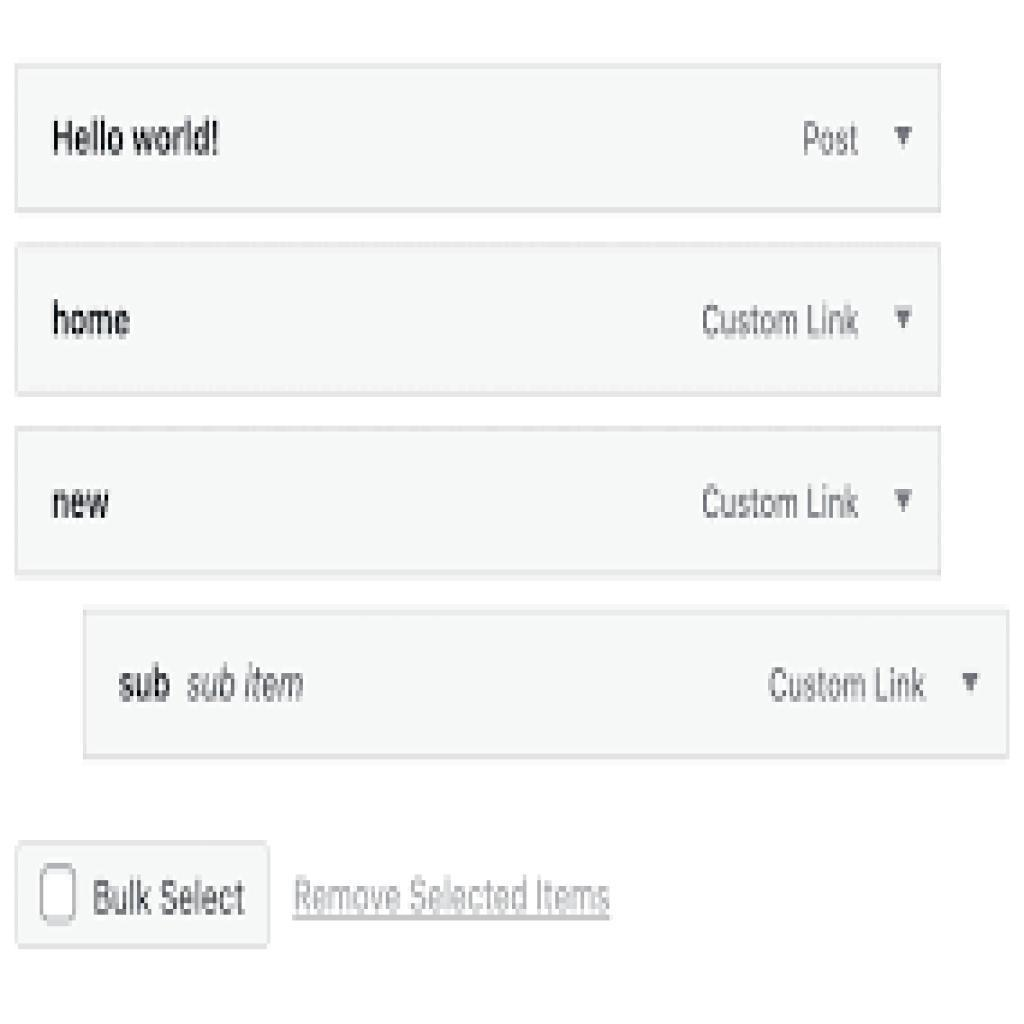button: (14, 843, 265, 949)
checkbox: (38, 860, 78, 924)
dropdown: (13, 239, 939, 398), (78, 609, 1017, 758), (10, 426, 941, 574), (12, 64, 942, 212)
